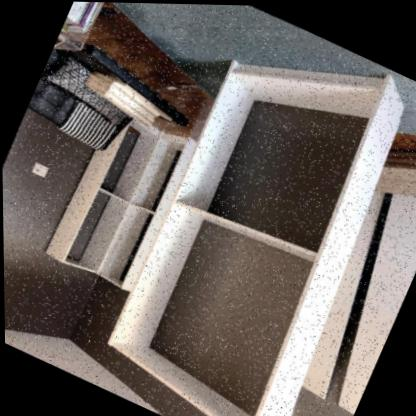Shelf: (75, 1, 416, 416)
